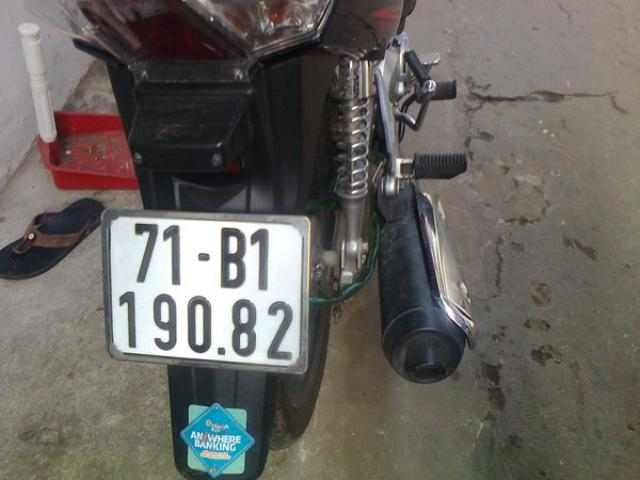plate: (113, 215, 297, 364)
